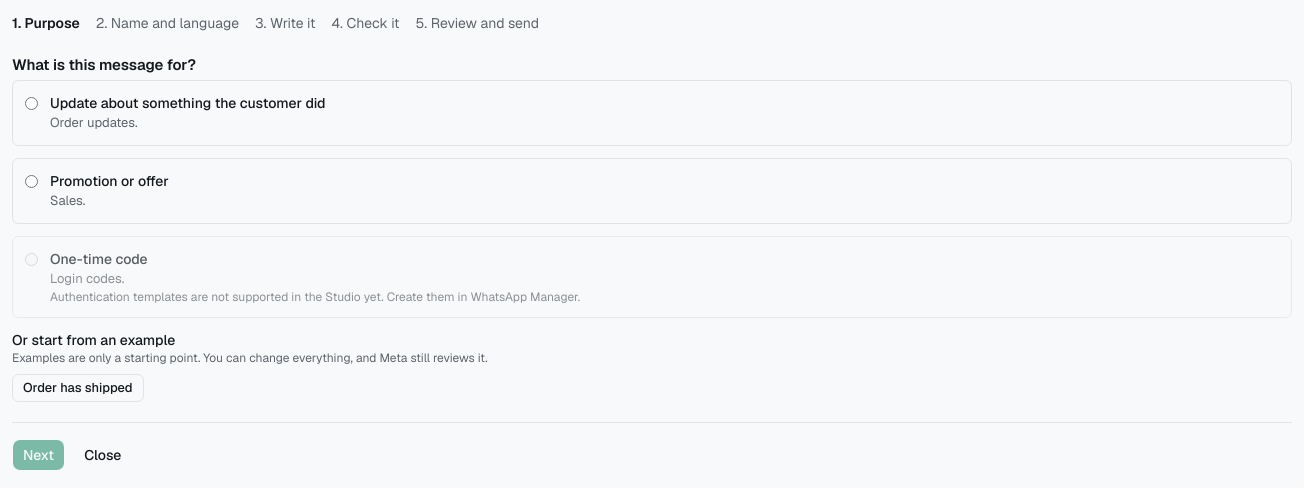
Test: TemplateStudio: guided steps › normalises the name as the person types and shows the server's rule messages
Click the radio button labelled "Update about something the customer did Order updates.": (32, 104) [25, 97, 38, 110]
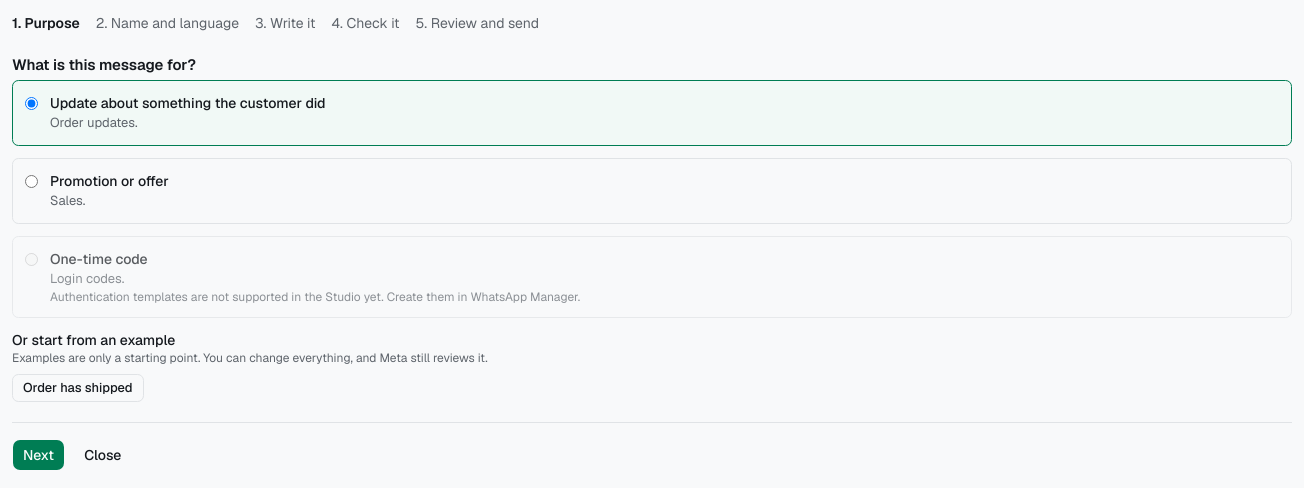
Click the button "Next": (39, 455) [12, 439, 65, 471]
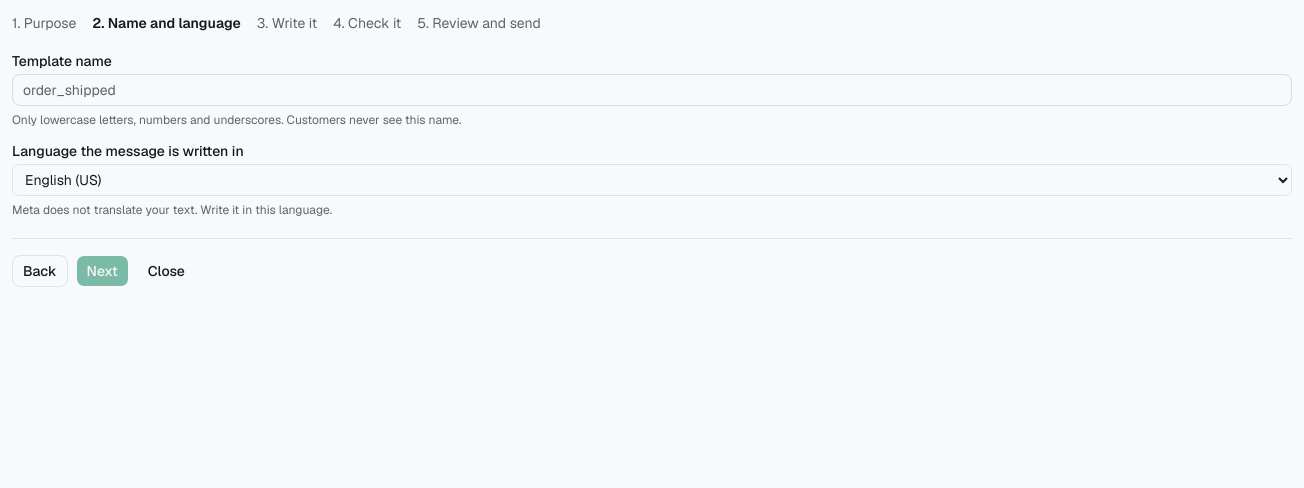
In the field labelled "Template name": (652, 90) [12, 74, 1292, 106], type "Order Shipped!"
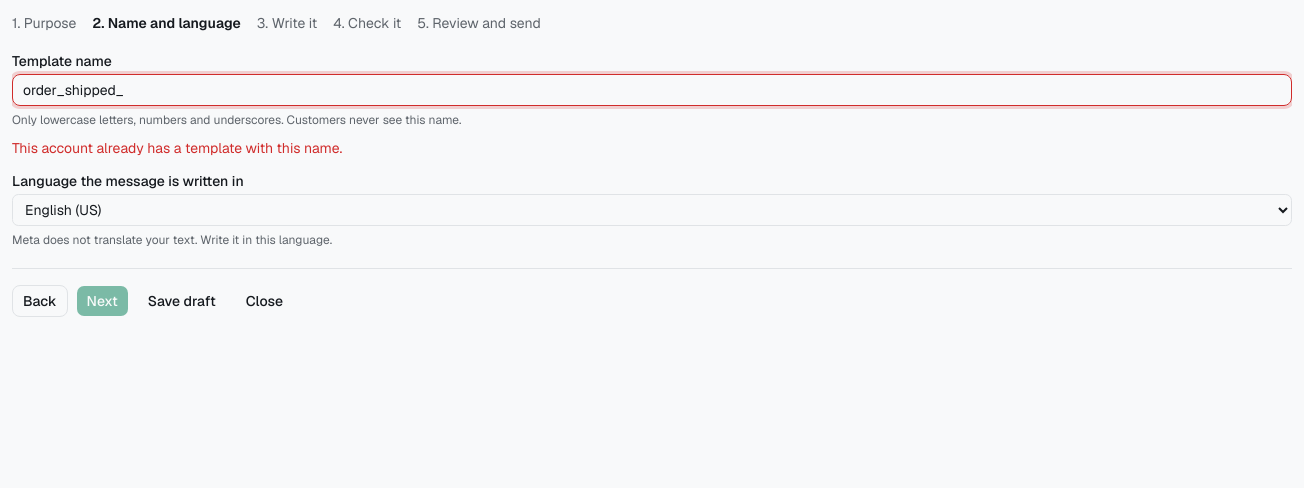
Check: the button "Next" is disabled, box [76, 285, 129, 317]
Check: the field labelled "Template name" holds "order_shipped_", box [12, 74, 1292, 106]
Check: the list item "This account already has a template with this name." is shown, box [12, 139, 342, 157]
